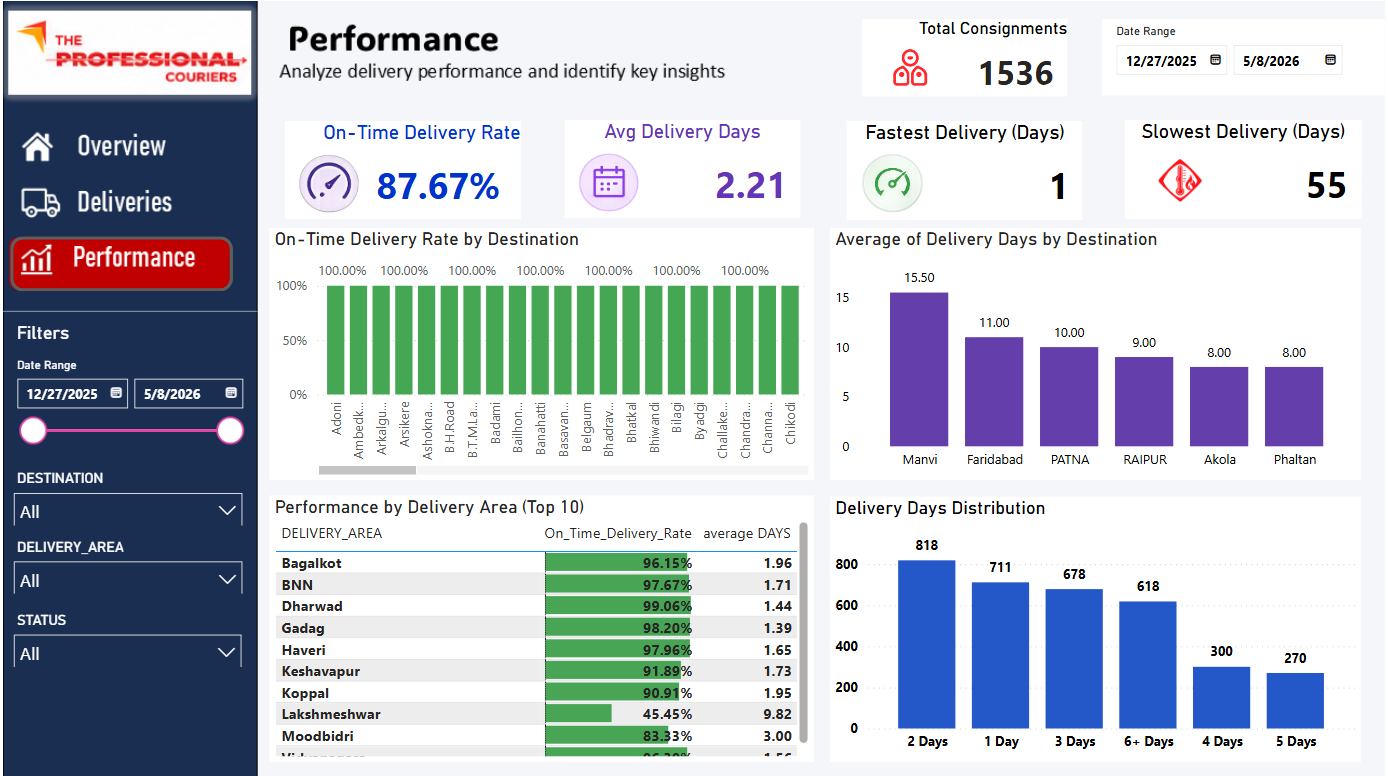

The dashboard page shown, as its layout file describes it:
{"tool":"powerbi","page":{"name":"PERFORMANCE","canvas":[1280,720],"ordinal":2},"visuals":[{"type":"actionButton","box":[6.2,218.1,206.2,51.2],"z":0},{"type":"actionButton","box":[6.2,168.1,206.9,41.9],"z":1000},{"type":"actionButton","box":[5.6,113.1,206.9,41.9],"z":2000},{"type":"cardVisual","title":"Total Consignments","fields":{"Data":["Data.total Consignments"]},"box":[795.6,16.7,189.9,71.9],"z":3000},{"type":"slicer","fields":{"Values":["Data.BOOKING_DATE"]},"box":[1017.8,16.4,261.6,71.2],"z":4000},{"type":"cardVisual","title":"On-Time Delivery Rate","fields":{"Data":["Data.On_Time_Delivery_Rate"]},"box":[260.8,111.4,218.1,91.1],"z":5000},{"type":"cardVisual","title":"Avg Delivery Days","fields":{"Data":["Data.average"]},"box":[520,110.1,218.1,91.1],"z":6000},{"type":"cardVisual","title":"Fastest Delivery (Days)","fields":{"Data":["Min(Data.Delivery_Days)"]},"box":[781.4,111.4,218.6,91.4],"z":7000},{"type":"cardVisual","title":"Slowest Delivery (Days)","fields":{"Data":["Max(Data.Delivery_Days)"]},"box":[1038.8,110,218.8,91.2],"z":8000},{"type":"columnChart","title":"On-Time Delivery Rate by Destination","fields":{"Category":["Data.DESTINATION"],"Y":["Data.On_Time_Delivery_Rate"]},"box":[246.4,210.1,504.3,233.3],"z":9000},{"type":"columnChart","title":"Average of Delivery Days by Destination","fields":{"Y":["Avg(Data.Delivery_Days)"],"Category":["Data.DESTINATION"]},"box":[765.2,210.1,491.3,233.3],"z":10000},{"type":"tableEx","title":"Performance by Delivery Area (Top 10)","fields":{"Values":["Data.DELIVERY_AREA","Data.On_Time_Delivery_Rate","Data.average DAYS"]},"box":[246.4,458.1,504.3,246.4],"z":11000},{"type":"columnChart","title":"Delivery Days Distribution","fields":{"Y":["Sum(Data.Delivery_Days)"],"Category":["Data.Delivery Day Group"]},"box":[765.7,458.6,491.4,245.7],"z":12000},{"type":"slicer","fields":{"Values":["Data.BOOKING_DATE"]},"box":[0,325,232,103],"z":13000},{"type":"textbox","box":[8,292,86,41],"z":14000},{"type":"slicer","fields":{"Values":["Data.DESTINATION"]},"box":[0,428.3,231.7,56.7],"z":15000},{"type":"slicer","fields":{"Values":["Data.DELIVERY_AREA"]},"box":[0,491.8,231.8,56.4],"z":16000},{"type":"slicer","fields":{"Values":["Data.STATUS"]},"box":[0,560,230.9,56.4],"z":17000}]}

Visuals, with their boxes in screenshot pixels (x1, y1, x2, y2), scaled from the page's 1280x720 canvas onto the 1388x776 screenshot:
actionButton: rect(7, 235, 230, 290)
actionButton: rect(7, 181, 231, 226)
actionButton: rect(6, 122, 230, 167)
"Total Consignments" cardVisual: rect(863, 18, 1069, 95)
slicer - Data.BOOKING_DATE: rect(1104, 18, 1387, 94)
"On-Time Delivery Rate" cardVisual: rect(283, 120, 519, 218)
"Avg Delivery Days" cardVisual: rect(564, 119, 800, 217)
"Fastest Delivery (Days)" cardVisual: rect(847, 120, 1084, 219)
"Slowest Delivery (Days)" cardVisual: rect(1126, 119, 1364, 217)
"On-Time Delivery Rate by Destination" columnChart: rect(267, 226, 814, 478)
"Average of Delivery Days by Destination" columnChart: rect(830, 226, 1363, 478)
"Performance by Delivery Area (Top 10)" tableEx: rect(267, 494, 814, 759)
"Delivery Days Distribution" columnChart: rect(830, 494, 1363, 759)
slicer - Data.BOOKING_DATE: rect(0, 350, 252, 461)
textbox: rect(9, 315, 102, 359)
slicer - Data.DESTINATION: rect(0, 462, 251, 523)
slicer - Data.DELIVERY_AREA: rect(0, 530, 251, 591)
slicer - Data.STATUS: rect(0, 604, 250, 664)
